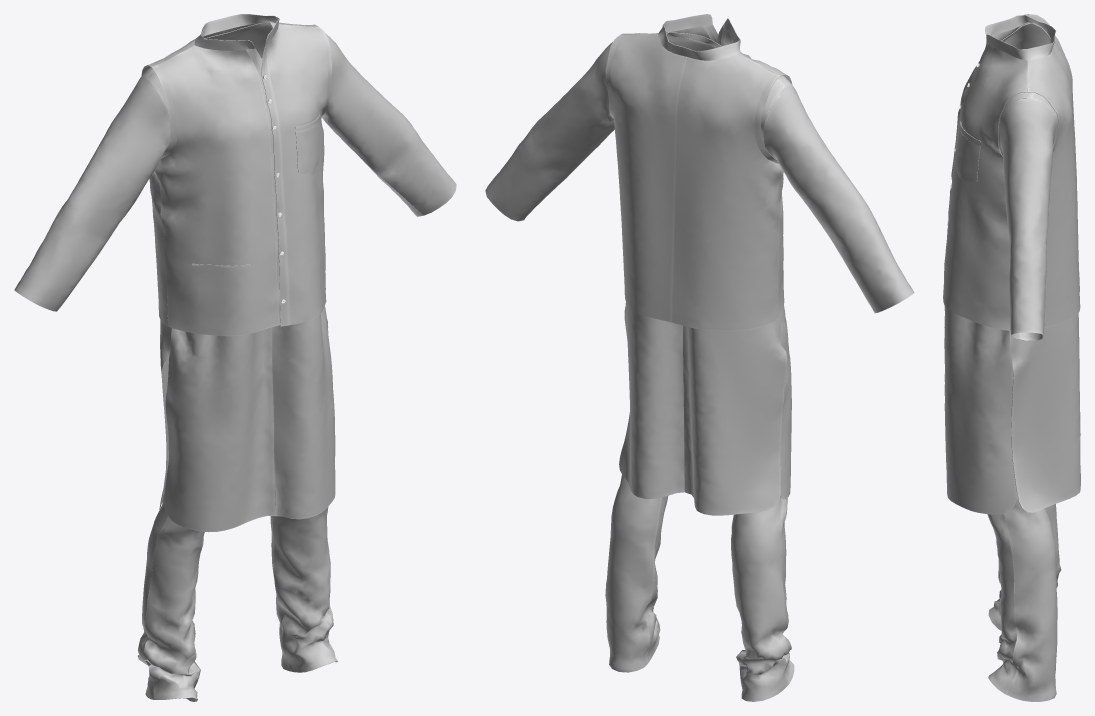
The model's file is kurta.glb.
3 renders of one model, left to right at view 1: azimuth 30°, elevation 25°; view 2: azimuth 150°, elevation 25°; view 3: azimuth 270°, elevation 25°, orthographic. The views are drawn at different scales.
Visible parts, largest first — view 1: kurta (×5), jacket (×8), pyjama (×3); view 2: kurta (×5), jacket (×5), pyjama (×4); view 3: kurta (×4), jacket (×8), pyjama (×4).
Boxes of the visible parts, x1=… form: kurta (×5): x1=14, y1=33, x2=456, y2=532; jacket (×8): x1=148, y1=14, x2=327, y2=336; pyjama (×3): x1=137, y1=493, x2=337, y2=701; kurta (×5): x1=485, y1=42, x2=914, y2=515; jacket (×5): x1=610, y1=14, x2=786, y2=331; pyjama (×4): x1=605, y1=474, x2=794, y2=701; kurta (×4): x1=944, y1=23, x2=1080, y2=514; jacket (×8): x1=943, y1=15, x2=1080, y2=330; pyjama (×4): x1=987, y1=493, x2=1061, y2=701.
Bounding box in the file's own units: 1107 × 1613 × 318.
35 materials, 35 textured.
